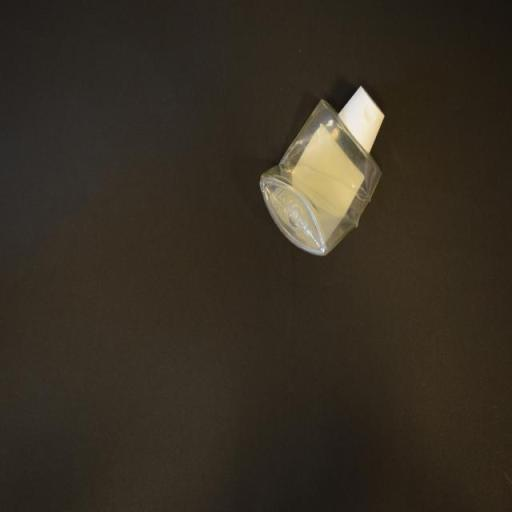plastic: (258, 83, 386, 256)
